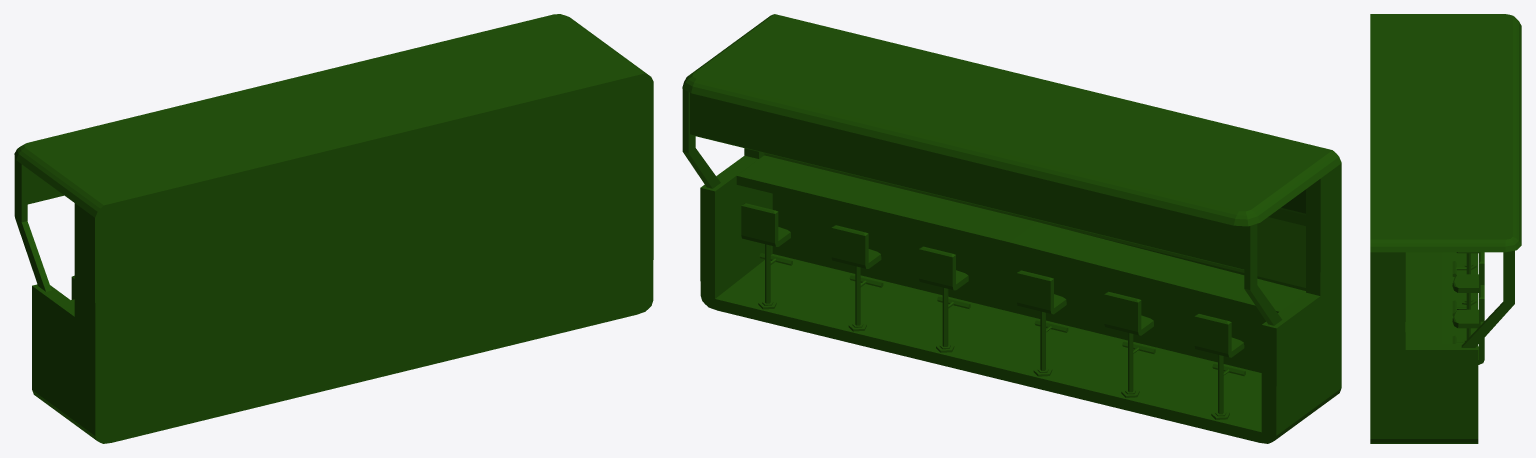
Rendered from T2_PitWall_T1.fbx.
The picture shows the model from 3 angles, left to right: view 1: azimuth 30°, elevation 25°; view 2: azimuth 150°, elevation 25°; view 3: azimuth 270°, elevation 25°; orthographic projection. The views are drawn at different scales.
Parts seen in each view (by area): view 1: T2_PitWall_T1; view 2: T2_PitWall_T1; view 3: T2_PitWall_T1.
Part boxes in pixels (x1,y1,x2,y2): T2_PitWall_T1: [14, 14, 653, 443]; T2_PitWall_T1: [682, 14, 1341, 443]; T2_PitWall_T1: [1370, 14, 1521, 443].
Size of the model in its own units: 2.91 by 1.19 by 0.7976.
